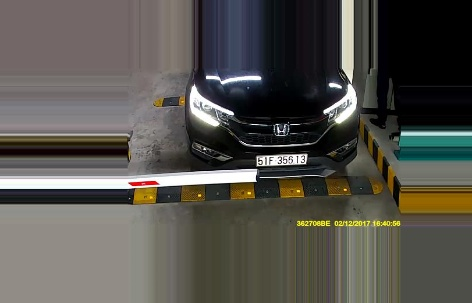plate: (255, 151, 309, 169)
